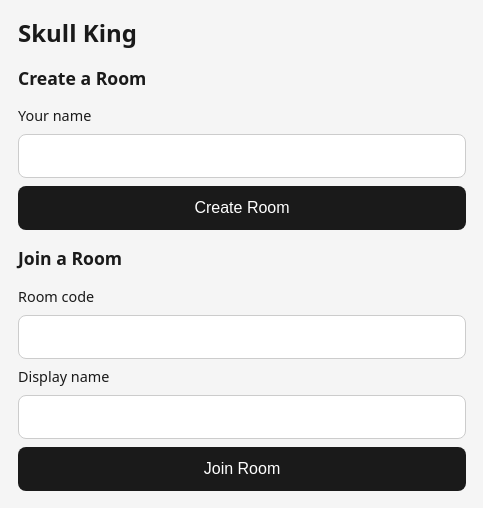
Test: App › creates a Room and shows the Lobby roster on success
Type "Alice" into the field labelled "Your name".
click(242, 156); type("Alice")  # box [18,134,466,178]
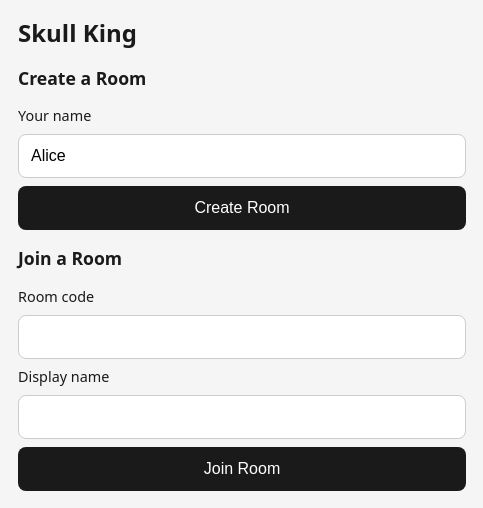
Click the button "Create Room".
click(242, 208)  # box [18,186,466,230]
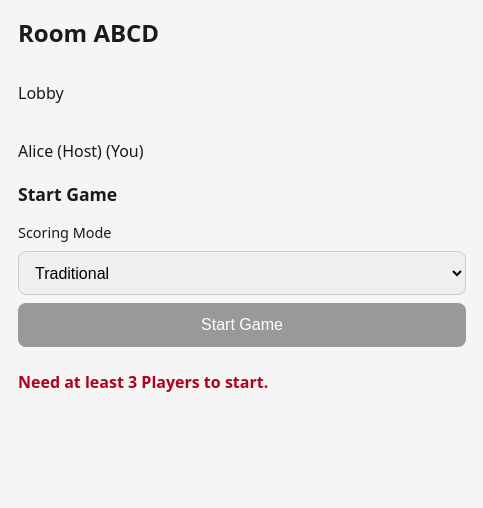
Expected: the text "ABCD" is shown, [93,16,159,49]
Expected: the text "Lobby" is shown, [18,82,64,104]
Expected: the text "Alice" is shown, [18,140,53,162]
